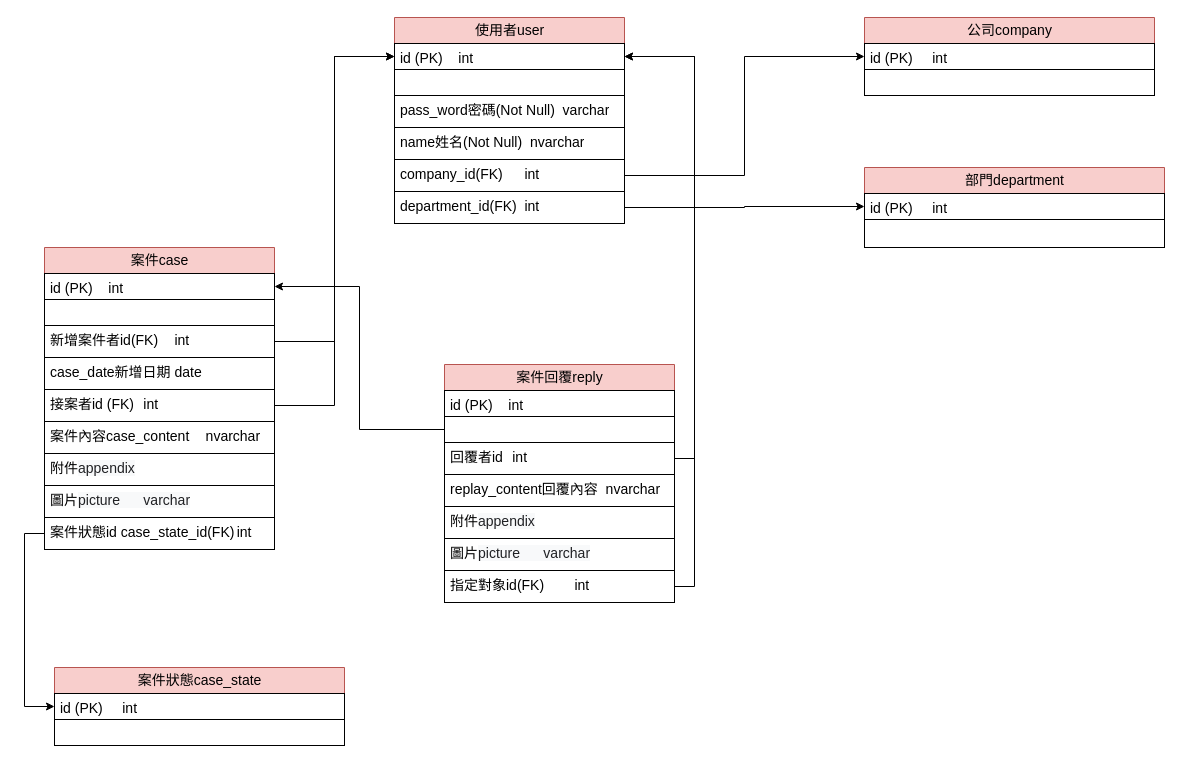
The diagram is 1182 pixels wide and 766 high, and some of its shapes have lost their labels. The shapes that lost their labels are listed below. From the top down, each one's centre as x and y in pixels, then its label:
At (509,82): "email (Not Null) varchar".
At (1009,82): "company_name公司名 (Not Null) nvarchar".
At (1014,233): "department_name部門名(Not Null) nvarchar".
At (159,312): "case_number案件編號 varchar".
At (559,429): "case_id(FK) int".
At (199,732): "state狀態 nvarchar".
